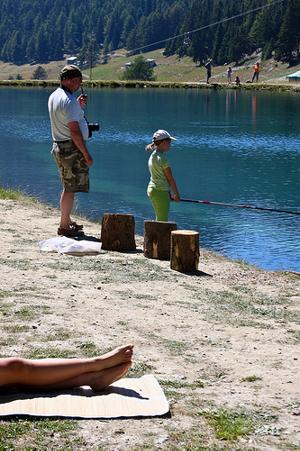person: (147, 129, 181, 225)
